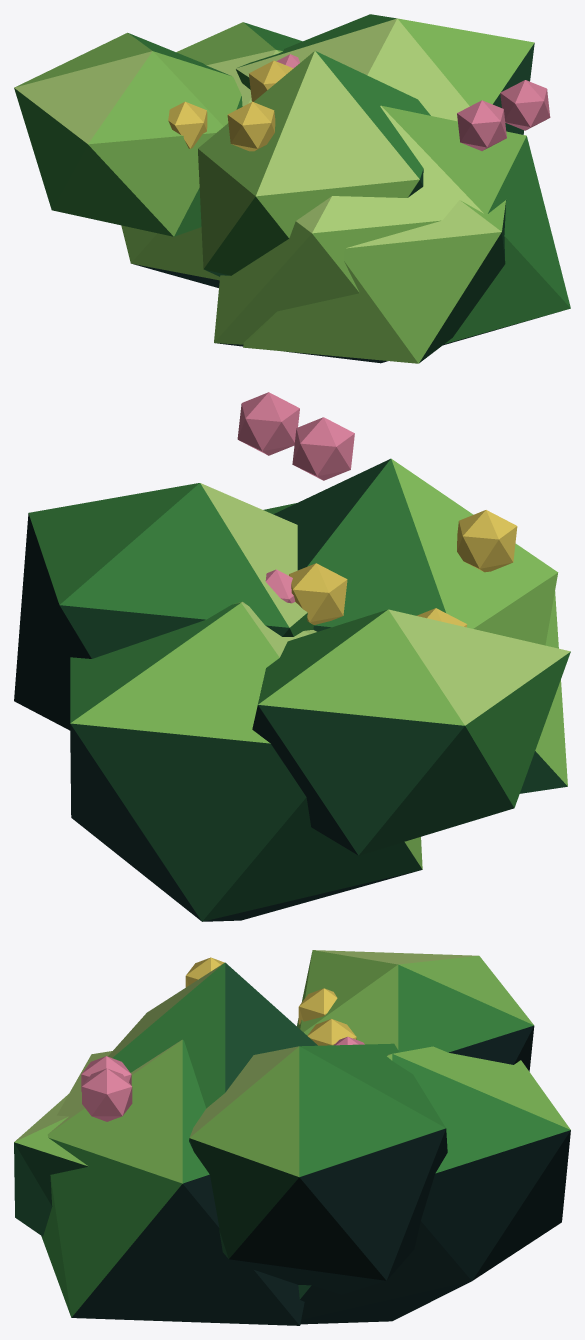
Rendered from bush_flowering.glb.
3 views of the same model, one above another, from view 1: azimuth 30°, elevation 25°; view 2: azimuth 150°, elevation 25°; view 3: azimuth 270°, elevation 25° (orthographic). The views are drawn at different scales.
Visible parts, largest first — view 1: bush_flowering; view 2: bush_flowering; view 3: bush_flowering.
Boxes of the visible parts, x1,y1,x2,y2 form: bush_flowering: (14, 14, 570, 363); bush_flowering: (14, 392, 570, 921); bush_flowering: (14, 950, 570, 1325).
Size of the model in its own units: 0.7227 by 0.5042 by 0.7526.
